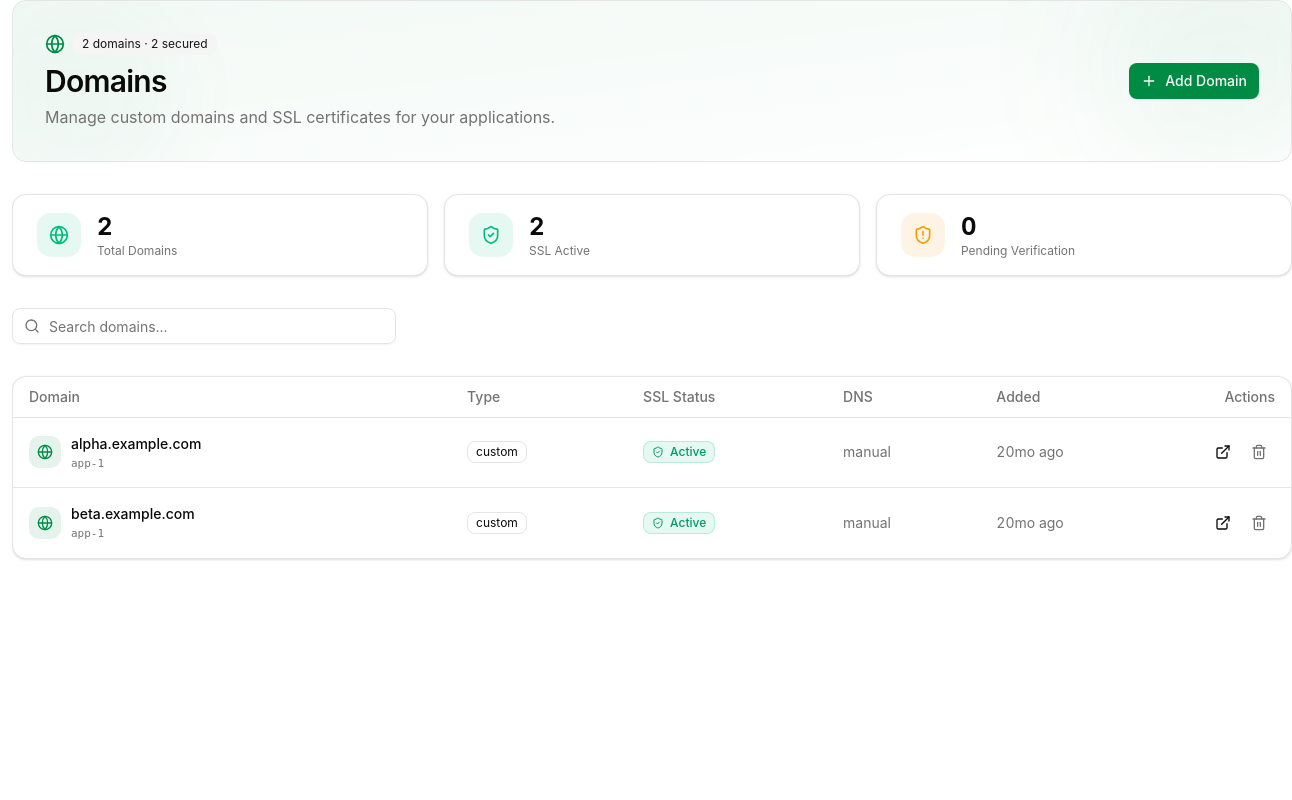
Test: Domains page › filters the table by the search input
Type "beta" into the field with placeholder "Search domains..." at (204,326), box [12,308,396,344]
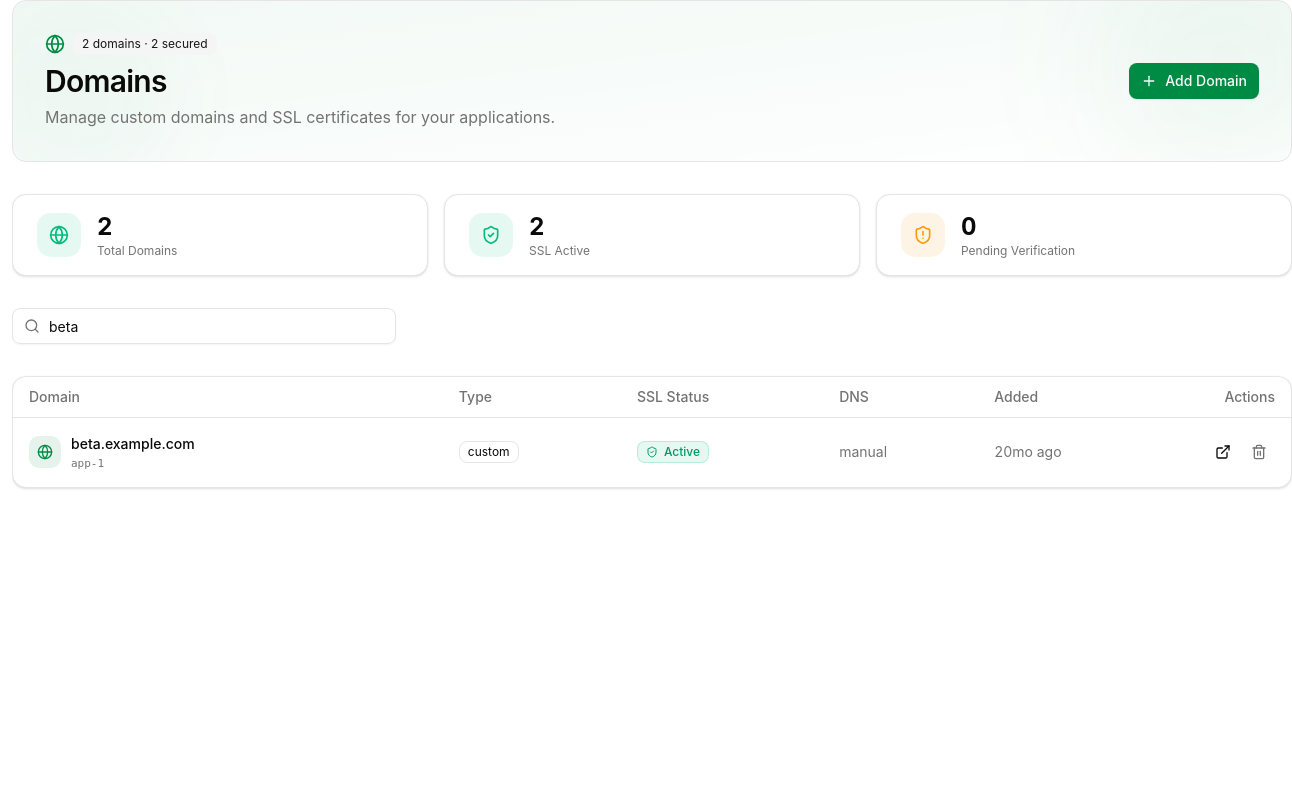
Expected: the text "beta.example.com" is shown, [71,434,195,452]
Expected: the text "alpha.example.com" is gone
